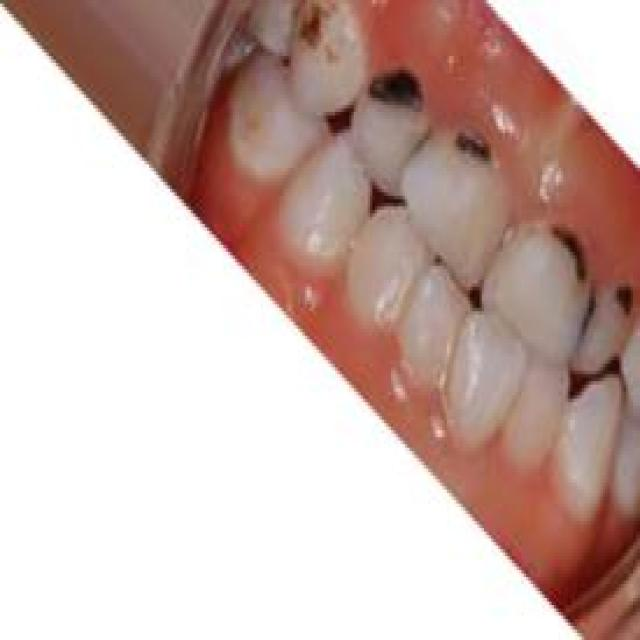caries: (356, 44, 427, 125), (291, 0, 347, 84), (546, 208, 592, 294), (449, 115, 498, 178), (603, 259, 640, 332)
